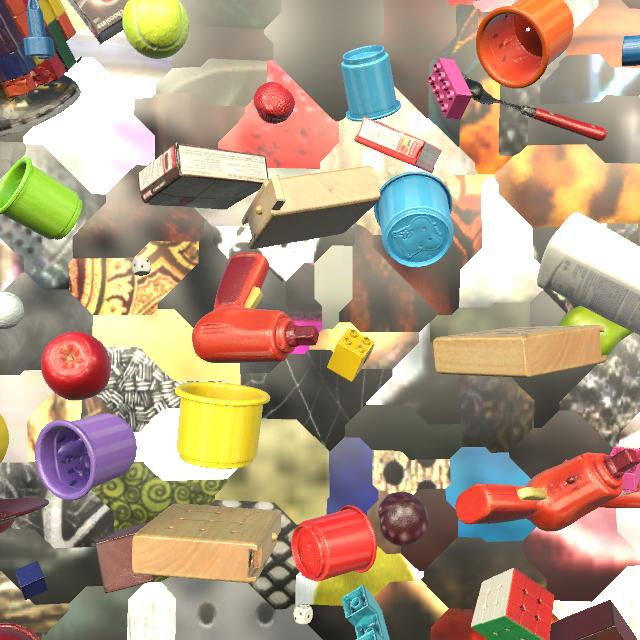ycb_008_pudding_box: (137, 143, 269, 210), (68, 0, 129, 44)
ycb_009_gelatin_box: (354, 116, 441, 173)
ycb_012_strawberry: (253, 82, 295, 124)
ycb_013_apple: (41, 332, 111, 401)
ycb_016_pear: (558, 306, 633, 357)
ycb_018_plum: (378, 492, 428, 546)
